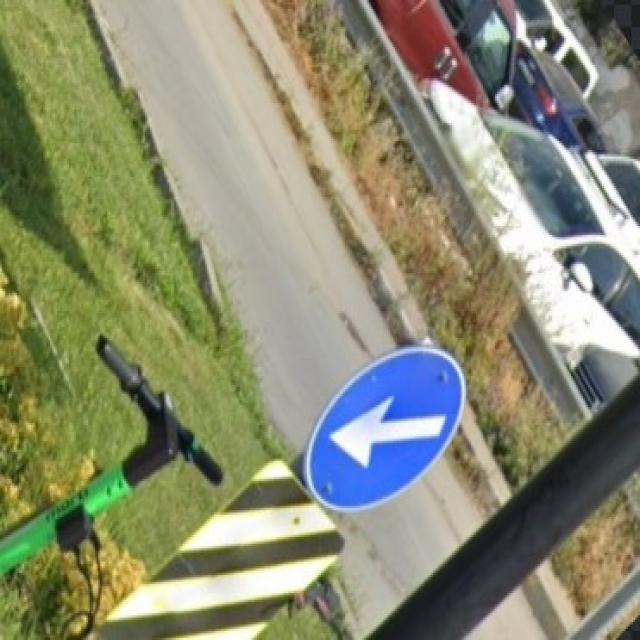Turn Left: (307, 351, 464, 521)
